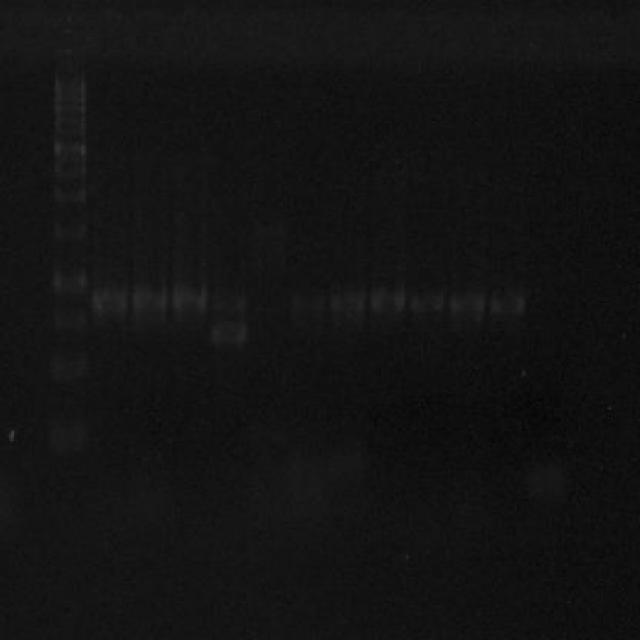B: (130, 278, 170, 324), (90, 278, 128, 326), (170, 275, 210, 320), (408, 280, 446, 318), (368, 280, 406, 318), (448, 282, 488, 318), (488, 284, 528, 320), (211, 314, 251, 350), (212, 278, 252, 312), (330, 286, 367, 322)
M: (44, 51, 94, 460)
P: (50, 342, 90, 387), (48, 412, 90, 454), (50, 266, 90, 294), (52, 306, 88, 336), (49, 216, 86, 244), (51, 66, 88, 92), (50, 183, 88, 208), (51, 160, 90, 182), (51, 136, 88, 158), (54, 102, 88, 115), (52, 116, 88, 127), (53, 91, 89, 102), (52, 128, 90, 137)
